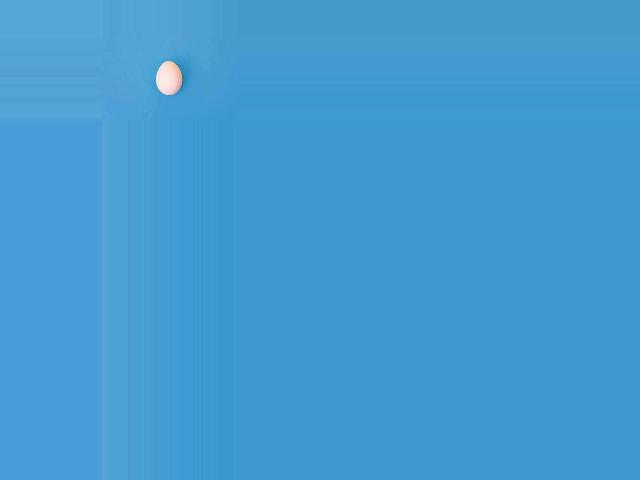egg: (155, 60, 182, 95)
